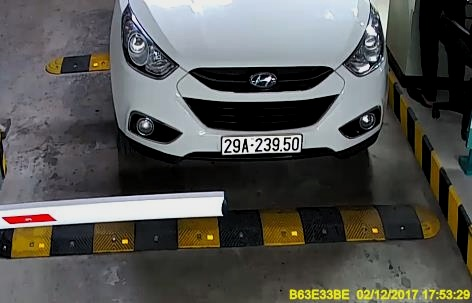plate: (221, 125, 306, 159)
